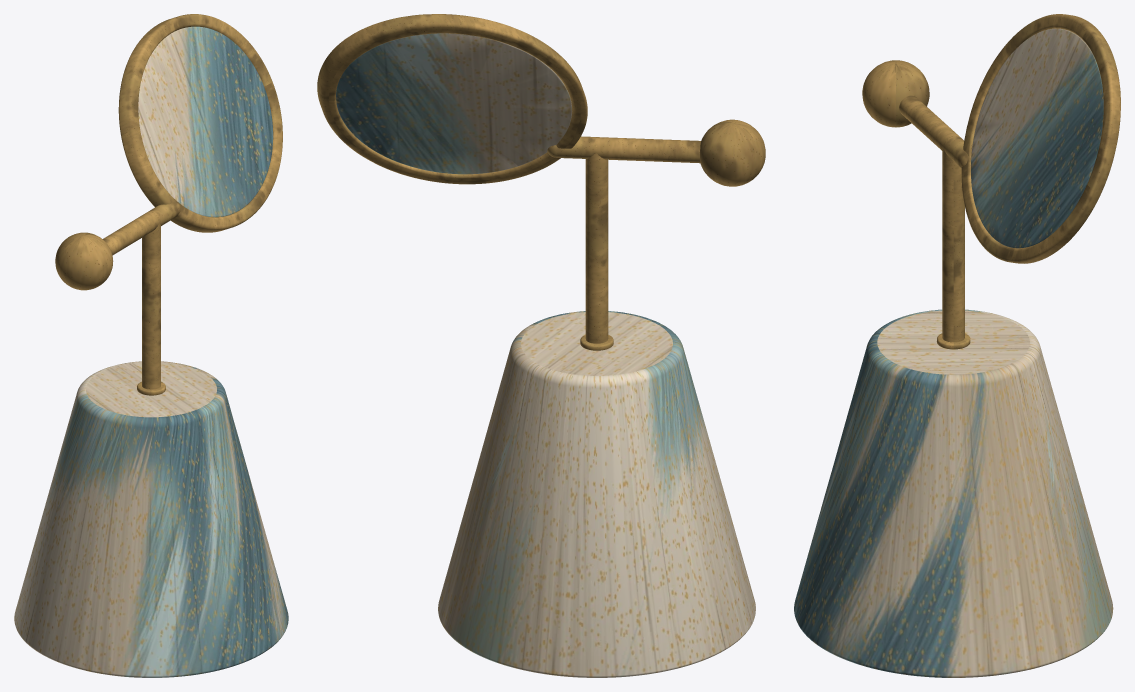
Rendered from bishop-white-hd.glb.
3 views of the same model, side by side, from view 1: azimuth 30°, elevation 25°; view 2: azimuth 150°, elevation 25°; view 3: azimuth 270°, elevation 25° (orthographic). The views are drawn at different scales.
Parts seen in each view (by area): view 1: Telo, Vlozka_cocky, Ram_cocky, Sloupek, Kulicka, Rameno; view 2: Telo, Vlozka_cocky, Ram_cocky, Sloupek, Kulicka, Rameno; view 3: Telo, Vlozka_cocky, Ram_cocky, Sloupek, Kulicka, Rameno.
Part boxes in pixels (box(x1,y1,x2,y2)): Telo: box(14, 361, 288, 677); Vlozka_cocky: box(138, 26, 273, 217); Ram_cocky: box(118, 14, 282, 232); Sloupek: box(142, 211, 160, 389); Kulicka: box(55, 232, 113, 290); Rameno: box(103, 201, 180, 255); Telo: box(438, 311, 755, 677); Vlozka_cocky: box(336, 33, 572, 174); Ram_cocky: box(317, 14, 587, 184); Sloupek: box(585, 137, 608, 343); Kulicka: box(700, 119, 765, 186); Rameno: box(547, 136, 700, 163); Telo: box(794, 309, 1113, 677); Vlozka_cocky: box(971, 28, 1103, 248); Ram_cocky: box(961, 14, 1120, 263); Sloupek: box(942, 135, 964, 342); Kulicka: box(862, 60, 929, 127); Rameno: box(899, 95, 971, 167).
Size of the model in its own units: 0.8067 by 1.38 by 0.6513.
Materials: 2 (2 with a texture image).
